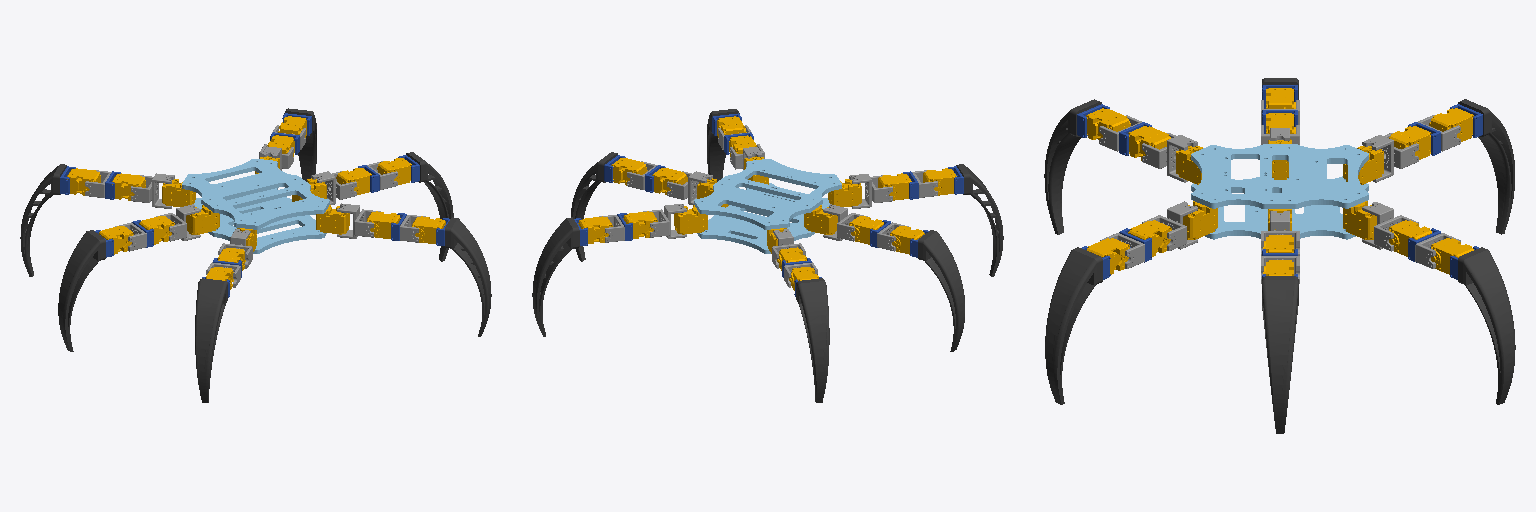
--- Facts derived from the render (not from the file) ---
3 views of the same robot in one strip: view 1: azimuth 30°, elevation 25°; view 2: azimuth 150°, elevation 25°; view 3: azimuth 270°, elevation 25° (orthographic).
Model urdf with 21 links and 20 joints (18 revolute, 2 fixed), rooted at base_link, posed all joints at 0.
Visible links, largest first — view 1: partb, base_assembly, tibia_assembly_5, tibia_assembly_6, tibia_assembly, tibia_assembly_4, tibia_assembly_2, tibia_assembly_3, femur_assembly_4, femur_assembly, femur_assembly_2, femur_assembly_5 (+6 smaller); view 2: partb, base_assembly, tibia_assembly_4, tibia_assembly_5, tibia_assembly_3, tibia_assembly_6, tibia_assembly_2, tibia_assembly, femur_assembly_3, femur_assembly_6, femur_assembly_5, femur_assembly_2 (+6 smaller); view 3: partb, base_assembly, tibia_assembly_3, tibia_assembly, tibia_assembly_2, tibia_assembly_6, tibia_assembly_4, femur_assembly_3, femur_assembly, femur_assembly_6, femur_assembly_4, double_bracket_assembly_4 (+7 smaller).
Link boxes in pixels (x1,y1,x2,y2): partb: (182, 159, 329, 229); base_assembly: (162, 156, 349, 253); tibia_assembly_5: (58, 226, 133, 351); tibia_assembly_6: (195, 267, 233, 402); tibia_assembly: (412, 216, 491, 336); tibia_assembly_4: (20, 164, 100, 276); tibia_assembly_2: (377, 152, 453, 261); tibia_assembly_3: (278, 108, 316, 181); femur_assembly_4: (85, 170, 145, 200); femur_assembly: (367, 211, 425, 242); femur_assembly_2: (336, 161, 397, 194); femur_assembly_5: (115, 216, 174, 251); partb: (694, 159, 841, 229); base_assembly: (674, 156, 861, 253); tibia_assembly_4: (789, 267, 829, 402); tibia_assembly_5: (890, 226, 964, 351); tibia_assembly_3: (532, 216, 612, 336); tibia_assembly_6: (923, 164, 1003, 276); tibia_assembly_2: (571, 152, 647, 261); tibia_assembly: (707, 109, 746, 181); femur_assembly_3: (599, 211, 657, 242); femur_assembly_6: (878, 170, 937, 200); femur_assembly_5: (849, 216, 908, 251); femur_assembly_2: (627, 161, 687, 194); partb: (1191, 144, 1368, 208); base_assembly: (1176, 140, 1383, 239); tibia_assembly_3: (1431, 238, 1515, 404); tibia_assembly: (1045, 238, 1129, 404); tibia_assembly_2: (1262, 260, 1298, 433); tibia_assembly_6: (1044, 99, 1130, 234); tibia_assembly_4: (1429, 99, 1514, 234); femur_assembly_3: (1389, 220, 1460, 268); femur_assembly: (1100, 220, 1171, 268); femur_assembly_6: (1099, 115, 1170, 160); femur_assembly_4: (1389, 115, 1460, 159); double_bracket_assembly_4: (1362, 133, 1418, 182).
Size in the robot's own frame: 0.6881 by 0.5678 by 0.1915 metres.
56 mesh visuals loaded from 6 distinct referenced files (6 binary STL).

URDF robot description (urdf):
<?xml version="1.0" ?>
<!-- Generated using onshape-to-robot -->
<!-- OnShape https://cad.onshape.com/documents/2311ffd79aa6c26e8c566e59/w/5ecc59089fcfd42a0c58ebf8/e/2f7cd58c498d1dbad1e98fbd -->
<robot name="urdf">
    <!-- Link base_link -->
    <link name="base_link">
        <inertial>
            <origin xyz="0 0 0" rpy="0 0 0"/>
            <mass value="0"/>
            <inertia ixx="0" ixy="0" ixz="0" iyy="0" iyz="0" izz="0"/>
        </inertial>
    </link>
    <!-- Link base_assembly -->
    <link name="base_assembly">
        <inertial>
            <origin xyz="0.000265282 0.00633191 0.0073901" rpy="0 0 0"/>
            <mass value="0.890914"/>
            <inertia ixx="0.00543286" ixy="1.502e-07" ixz="-2.03288e-20" iyy="0.00544627" iyz="1.21481e-05" izz="0.0106306"/>
        </inertial>
        <!-- Part parta -->
        <visual>
            <origin xyz="0.000265282 0.00538834 -0.010561" rpy="0 -0 0"/>
            <geometry>
                <mesh filename="package://assets/parta.stl"/>
            </geometry>
            <material name="parta_material">
                <color rgba="0.615686 0.811765 0.929412 1.0"/>
            </material>
        </visual>
        <collision>
            <origin xyz="0.000265282 0.00538834 -0.010561" rpy="0 -0 0"/>
            <geometry>
                <mesh filename="package://assets/parta.stl"/>
            </geometry>
        </collision>
        <!-- Part dc11_a01_dummy -->
        <visual>
            <origin xyz="0.0867913 0.114345 0.013439" rpy="3.14159 -0 2.355"/>
            <geometry>
                <mesh filename="package://assets/dc11_a01_dummy.stl"/>
            </geometry>
            <material name="dc11_a01_dummy_material">
                <color rgba="0.980392 0.713725 0.00392157 1.0"/>
            </material>
        </visual>
        <collision>
            <origin xyz="0.0867913 0.114345 0.013439" rpy="3.14159 -0 2.355"/>
            <geometry>
                <mesh filename="package://assets/dc11_a01_dummy.stl"/>
            </geometry>
        </collision>
        <!-- Part dc11_a01_dummy_2 -->
        <visual>
            <origin xyz="-0.0862607 0.114345 0.013439" rpy="3.14159 -0 -2.355"/>
            <geometry>
                <mesh filename="package://assets/dc11_a01_dummy.stl"/>
            </geometry>
            <material name="dc11_a01_dummy_2_material">
                <color rgba="0.980392 0.713725 0.00392157 1.0"/>
            </material>
        </visual>
        <collision>
            <origin xyz="-0.0862607 0.114345 0.013439" rpy="3.14159 -0 -2.355"/>
            <geometry>
                <mesh filename="package://assets/dc11_a01_dummy.stl"/>
            </geometry>
        </collision>
        <!-- Part dc11_a01_dummy_3 -->
        <visual>
            <origin xyz="-0.106519 0.00538834 0.013439" rpy="3.14159 -0 -1.5708"/>
            <geometry>
                <mesh filename="package://assets/dc11_a01_dummy.stl"/>
            </geometry>
            <material name="dc11_a01_dummy_3_material">
                <color rgba="0.980392 0.713725 0.00392157 1.0"/>
            </material>
        </visual>
        <collision>
            <origin xyz="-0.106519 0.00538834 0.013439" rpy="3.14159 -0 -1.5708"/>
            <geometry>
                <mesh filename="package://assets/dc11_a01_dummy.stl"/>
            </geometry>
        </collision>
        <!-- Part dc11_a01_dummy_4 -->
        <visual>
            <origin xyz="0.10705 0.00538834 0.013439" rpy="3.14159 -0 1.5708"/>
            <geometry>
                <mesh filename="package://assets/dc11_a01_dummy.stl"/>
            </geometry>
            <material name="dc11_a01_dummy_4_material">
                <color rgba="0.980392 0.713725 0.00392157 1.0"/>
            </material>
        </visual>
        <collision>
            <origin xyz="0.10705 0.00538834 0.013439" rpy="3.14159 -0 1.5708"/>
            <geometry>
                <mesh filename="package://assets/dc11_a01_dummy.stl"/>
            </geometry>
        </collision>
        <!-- Part dc11_a01_dummy_5 -->
        <visual>
            <origin xyz="-0.0862607 -0.103568 0.013439" rpy="3.14159 -0 -0.786593"/>
            <geometry>
                <mesh filename="package://assets/dc11_a01_dummy.stl"/>
            </geometry>
            <material name="dc11_a01_dummy_5_material">
                <color rgba="0.980392 0.713725 0.00392157 1.0"/>
            </material>
        </visual>
        <collision>
            <origin xyz="-0.0862607 -0.103568 0.013439" rpy="3.14159 -0 -0.786593"/>
            <geometry>
                <mesh filename="package://assets/dc11_a01_dummy.stl"/>
            </geometry>
        </collision>
        <!-- Part dc11_a01_dummy_6 -->
        <visual>
            <origin xyz="0.0867913 -0.103568 0.013439" rpy="3.14159 -0 0.786593"/>
            <geometry>
                <mesh filename="package://assets/dc11_a01_dummy.stl"/>
            </geometry>
            <material name="dc11_a01_dummy_6_material">
                <color rgba="0.980392 0.713725 0.00392157 1.0"/>
            </material>
        </visual>
        <collision>
            <origin xyz="0.0867913 -0.103568 0.013439" rpy="3.14159 -0 0.786593"/>
            <geometry>
                <mesh filename="package://assets/dc11_a01_dummy.stl"/>
            </geometry>
        </collision>
    </link>
    <!-- Link double_bracket_assembly -->
    <link name="double_bracket_assembly">
        <inertial>
            <origin xyz="0.028 1.20994e-08 0.019" rpy="0 0 0"/>
            <mass value="0.0246869"/>
            <inertia ixx="9.32829e-06" ixy="-5.03238e-12" ixz="-5.03238e-12" iyy="8.77841e-06" iyz="7.40111e-15" izz="8.77841e-06"/>
        </inertial>
        <!-- Part fr12_h101 -->
        <visual>
            <origin xyz="0.056 -1.21431e-17 0.019" rpy="0 -0 1.5708"/>
            <geometry>
                <mesh filename="package://assets/fr12_h101.stl"/>
            </geometry>
            <material name="fr12_h101_material">
                <color rgba="0.647059 0.647059 0.647059 1.0"/>
            </material>
        </visual>
        <collision>
            <origin xyz="0.056 -1.21431e-17 0.019" rpy="0 -0 1.5708"/>
            <geometry>
                <mesh filename="package://assets/fr12_h101.stl"/>
            </geometry>
        </collision>
        <!-- Part fr12_h101_2 -->
        <visual>
            <origin xyz="2.77556e-17 1.73472e-18 0.019" rpy="1.5708 1.5708 0"/>
            <geometry>
                <mesh filename="package://assets/fr12_h101.stl"/>
            </geometry>
            <material name="fr12_h101_2_material">
                <color rgba="0.647059 0.647059 0.647059 1.0"/>
            </material>
        </visual>
        <collision>
            <origin xyz="2.77556e-17 1.73472e-18 0.019" rpy="1.5708 1.5708 0"/>
            <geometry>
                <mesh filename="package://assets/fr12_h101.stl"/>
            </geometry>
        </collision>
    </link>
    <!-- Link femur_assembly -->
    <link name="femur_assembly">
        <inertial>
            <origin xyz="-7.54726e-06 -0.0176085 -0.0180586" rpy="0 0 0"/>
            <mass value="0.13198"/>
            <inertia ixx="5.98948e-05" ixy="1.75405e-08" ixz="1.43469e-08" iyy="2.44197e-05" iyz="-1.39313e-06" izz="5.20149e-05"/>
        </inertial>
        <!-- Part dc11_a01_dummy_7 -->
        <visual>
            <origin xyz="-1.73472e-18 0 -0.019" rpy="-5.55112e-17 4.93038e-32 3.9443e-31"/>
            <geometry>
                <mesh filename="package://assets/dc11_a01_dummy.stl"/>
            </geometry>
            <material name="dc11_a01_dummy_7_material">
                <color rgba="0.980392 0.713725 0.00392157 1.0"/>
            </material>
        </visual>
        <collision>
            <origin xyz="-1.73472e-18 0 -0.019" rpy="-5.55112e-17 4.93038e-32 3.9443e-31"/>
            <geometry>
                <mesh filename="package://assets/dc11_a01_dummy.stl"/>
            </geometry>
        </collision>
        <!-- Part fr12_s102 -->
        <visual>
            <origin xyz="1.38778e-17 -0.021 -0.019" rpy="1.5708 1.5708 0"/>
            <geometry>
                <mesh filename="package://assets/fr12_s102.stl"/>
            </geometry>
            <material name="fr12_s102_material">
                <color rgba="0.231373 0.380392 0.705882 1.0"/>
            </material>
        </visual>
        <collision>
            <origin xyz="1.38778e-17 -0.021 -0.019" rpy="1.5708 1.5708 0"/>
            <geometry>
                <mesh filename="package://assets/fr12_s102.stl"/>
            </geometry>
        </collision>
        <!-- Part fr12_h101_3 -->
        <visual>
            <origin xyz="-1.21431e-16 -0.0715 -0.019" rpy="-6.56411e-19 -1.5708 0"/>
            <geometry>
                <mesh filename="package://assets/fr12_h101.stl"/>
            </geometry>
            <material name="fr12_h101_3_material">
                <color rgba="0.647059 0.647059 0.647059 1.0"/>
            </material>
        </visual>
        <collision>
            <origin xyz="-1.21431e-16 -0.0715 -0.019" rpy="-6.56411e-19 -1.5708 0"/>
            <geometry>
                <mesh filename="package://assets/fr12_h101.stl"/>
            </geometry>
        </collision>
    </link>
    <!-- Link tibia_assembly -->
    <link name="tibia_assembly">
        <inertial>
            <origin xyz="-0.0167995 -0.0405638 -0.0184092" rpy="0 0 0"/>
            <mass value="0.209114"/>
            <inertia ixx="0.000285113" ixy="-0.000196192" ixz="-2.14462e-06" iyy="0.000286962" iyz="-4.27064e-06" izz="0.000528405"/>
        </inertial>
        <!-- Part part_1 -->
        <visual>
            <origin xyz="0.00565724 0.128232 -0.00920154" rpy="-1.66533e-15 -0 2.77336e-17"/>
            <geometry>
                <mesh filename="package://assets/part_1.stl"/>
            </geometry>
            <material name="part_1_material">
                <color rgba="0.301961 0.301961 0.301961 1.0"/>
            </material>
        </visual>
        <collision>
            <origin xyz="0.00565724 0.128232 -0.00920154" rpy="-1.66533e-15 -0 2.77336e-17"/>
            <geometry>
                <mesh filename="package://assets/part_1.stl"/>
            </geometry>
        </collision>
        <!-- Part dc11_a01_dummy_8 -->
        <visual>
            <origin xyz="0 0 -0.019" rpy="-1.60488e-31 9.86076e-32 0"/>
            <geometry>
                <mesh filename="package://assets/dc11_a01_dummy.stl"/>
            </geometry>
            <material name="dc11_a01_dummy_8_material">
                <color rgba="0.980392 0.713725 0.00392157 1.0"/>
            </material>
        </visual>
        <collision>
            <origin xyz="0 0 -0.019" rpy="-1.60488e-31 9.86076e-32 0"/>
            <geometry>
                <mesh filename="package://assets/dc11_a01_dummy.stl"/>
            </geometry>
        </collision>
        <!-- Part fr12_s102_2 -->
        <visual>
            <origin xyz="9.88792e-17 -0.021 -0.019" rpy="1.5708 1.5708 0"/>
            <geometry>
                <mesh filename="package://assets/fr12_s102.stl"/>
            </geometry>
            <material name="fr12_s102_2_material">
                <color rgba="0.231373 0.380392 0.705882 1.0"/>
            </material>
        </visual>
        <collision>
            <origin xyz="9.88792e-17 -0.021 -0.019" rpy="1.5708 1.5708 0"/>
            <geometry>
                <mesh filename="package://assets/fr12_s102.stl"/>
            </geometry>
        </collision>
    </link>
    <!-- Joint from femur_assembly to tibia_assembly -->
    <joint name="leg1_tibia" type="revolute">
        <origin xyz="-1.26635e-16 -0.0715 1.07553e-16" rpy="7.21645e-16 -3.83614e-17 3.60514e-17"/>
        <parent link="femur_assembly"/>
        <child link="tibia_assembly"/>
        <axis xyz="0 0 1"/>
        <limit effort="10" velocity="10" lower="-1.5708" upper="1.5708"/>
    </joint>
    <!-- Joint from double_bracket_assembly to femur_assembly -->
    <joint name="leg1_femur" type="revolute">
        <origin xyz="0.056 -0.019 0.019" rpy="1.5708 -1.5708 0"/>
        <parent link="double_bracket_assembly"/>
        <child link="femur_assembly"/>
        <axis xyz="0 0 1"/>
        <limit effort="10" velocity="10" lower="-1.5708" upper="1.5708"/>
    </joint>
    <!-- Joint from base_assembly to double_bracket_assembly -->
    <joint name="leg1_coxa" type="revolute">
        <origin xyz="0.0867913 -0.103568 -0.00556095" rpy="0 -0 -0.784204"/>
        <parent link="base_assembly"/>
        <child link="double_bracket_assembly"/>
        <axis xyz="0 0 1"/>
        <limit effort="10" velocity="10" lower="-1.0472" upper="1.0472"/>
    </joint>
    <!-- Link double_bracket_assembly_2 -->
    <link name="double_bracket_assembly_2">
        <inertial>
            <origin xyz="0.028 1.20994e-08 0.019" rpy="0 0 0"/>
            <mass value="0.0246869"/>
            <inertia ixx="9.32829e-06" ixy="-5.03238e-12" ixz="-5.03238e-12" iyy="8.77841e-06" iyz="7.40111e-15" izz="8.77841e-06"/>
        </inertial>
        <!-- Part fr12_h101_4 -->
        <visual>
            <origin xyz="0.056 4.16334e-17 0.019" rpy="0 -0 1.5708"/>
            <geometry>
                <mesh filename="package://assets/fr12_h101.stl"/>
            </geometry>
            <material name="fr12_h101_4_material">
                <color rgba="0.647059 0.647059 0.647059 1.0"/>
            </material>
        </visual>
        <collision>
            <origin xyz="0.056 4.16334e-17 0.019" rpy="0 -0 1.5708"/>
            <geometry>
                <mesh filename="package://assets/fr12_h101.stl"/>
            </geometry>
        </collision>
        <!-- Part fr12_h101_5 -->
        <visual>
            <origin xyz="0 0 0.019" rpy="1.5708 1.5708 0"/>
            <geometry>
                <mesh filename="package://assets/fr12_h101.stl"/>
            </geometry>
            <material name="fr12_h101_5_material">
                <color rgba="0.647059 0.647059 0.647059 1.0"/>
            </material>
        </visual>
        <collision>
            <origin xyz="0 0 0.019" rpy="1.5708 1.5708 0"/>
            <geometry>
                <mesh filename="package://assets/fr12_h101.stl"/>
            </geometry>
        </collision>
    </link>
    <!-- Link femur_assembly_2 -->
    <link name="femur_assembly_2">
        <inertial>
            <origin xyz="-7.54726e-06 -0.0176085 -0.0180586" rpy="0 0 0"/>
            <mass value="0.13198"/>
            <inertia ixx="5.98948e-05" ixy="1.75405e-08" ixz="1.43469e-08" iyy="2.44197e-05" iyz="-1.39313e-06" izz="5.20149e-05"/>
        </inertial>
        <!-- Part dc11_a01_dummy_9 -->
        <visual>
            <origin xyz="0 0 -0.019" rpy="0 -0 0"/>
            <geometry>
                <mesh filename="package://assets/dc11_a01_dummy.stl"/>
            </geometry>
            <material name="dc11_a01_dummy_9_material">
                <color rgba="0.980392 0.713725 0.00392157 1.0"/>
            </material>
        </visual>
        <collision>
            <origin xyz="0 0 -0.019" rpy="0 -0 0"/>
            <geometry>
                <mesh filename="package://assets/dc11_a01_dummy.stl"/>
            </geometry>
        </collision>
        <!-- Part fr12_s102_3 -->
        <visual>
            <origin xyz="-2.77556e-17 -0.021 -0.019" rpy="1.5708 1.5708 0"/>
            <geometry>
                <mesh filename="package://assets/fr12_s102.stl"/>
            </geometry>
            <material name="fr12_s102_3_material">
                <color rgba="0.231373 0.380392 0.705882 1.0"/>
            </material>
        </visual>
        <collision>
            <origin xyz="-2.77556e-17 -0.021 -0.019" rpy="1.5708 1.5708 0"/>
            <geometry>
                <mesh filename="package://assets/fr12_s102.stl"/>
            </geometry>
        </collision>
        <!-- Part fr12_h101_6 -->
        <visual>
            <origin xyz="-2.77556e-17 -0.0715 -0.019" rpy="-0 -1.5708 0"/>
            <geometry>
                <mesh filename="package://assets/fr12_h101.stl"/>
            </geometry>
            <material name="fr12_h101_6_material">
                <color rgba="0.647059 0.647059 0.647059 1.0"/>
            </material>
        </visual>
        <collision>
            <origin xyz="-2.77556e-17 -0.0715 -0.019" rpy="-0 -1.5708 0"/>
            <geometry>
                <mesh filename="package://assets/fr12_h101.stl"/>
            </geometry>
        </collision>
    </link>
    <!-- Link tibia_assembly_2 -->
    <link name="tibia_assembly_2">
        <inertial>
            <origin xyz="-0.0167995 -0.0405638 -0.0184092" rpy="0 0 0"/>
            <mass value="0.209114"/>
            <inertia ixx="0.000285113" ixy="-0.000196192" ixz="-2.14462e-06" iyy="0.000286962" iyz="-4.27064e-06" izz="0.000528405"/>
        </inertial>
        <!-- Part part_1_2 -->
        <visual>
            <origin xyz="0.00565724 0.128232 -0.00920154" rpy="-1.91334e-17 -0 2.77336e-17"/>
            <geometry>
                <mesh filename="package://assets/part_1.stl"/>
            </geometry>
            <material name="part_1_2_material">
                <color rgba="0.301961 0.301961 0.301961 1.0"/>
            </material>
        </visual>
        <collision>
            <origin xyz="0.00565724 0.128232 -0.00920154" rpy="-1.91334e-17 -0 2.77336e-17"/>
            <geometry>
                <mesh filename="package://assets/part_1.stl"/>
            </geometry>
        </collision>
        <!-- Part dc11_a01_dummy_10 -->
        <visual>
            <origin xyz="0 0 -0.019" rpy="0 -0 0"/>
            <geometry>
                <mesh filename="package://assets/dc11_a01_dummy.stl"/>
            </geometry>
            <material name="dc11_a01_dummy_10_material">
                <color rgba="0.980392 0.713725 0.00392157 1.0"/>
            </material>
        </visual>
        <collision>
            <origin xyz="0 0 -0.019" rpy="0 -0 0"/>
            <geometry>
                <mesh filename="package://assets/dc11_a01_dummy.stl"/>
            </geometry>
        </collision>
        <!-- Part fr12_s102_4 -->
        <visual>
            <origin xyz="0 -0.021 -0.019" rpy="1.5708 1.5708 0"/>
            <geometry>
                <mesh filename="package://assets/fr12_s102.stl"/>
            </geometry>
            <material name="fr12_s102_4_material">
                <color rgba="0.231373 0.380392 0.705882 1.0"/>
            </material>
        </visual>
        <collision>
            <origin xyz="0 -0.021 -0.019" rpy="1.5708 1.5708 0"/>
            <geometry>
                <mesh filename="package://assets/fr12_s102.stl"/>
            </geometry>
        </collision>
    </link>
    <!-- Joint from femur_assembly_2 to tibia_assembly_2 -->
    <joint name="leg2_tibia" type="revolute">
        <origin xyz="-2.77556e-17 -0.0715 -1.38778e-17" rpy="0 -0 0"/>
        <parent link="femur_assembly_2"/>
        <child link="tibia_assembly_2"/>
        <axis xyz="0 0 1"/>
        <limit effort="10" velocity="10" lower="-1.5708" upper="1.5708"/>
    </joint>
    <!-- Joint from double_bracket_assembly_2 to femur_assembly_2 -->
    <joint name="leg2_femur" type="revolute">
        <origin xyz="0.056 -0.019 0.019" rpy="1.5708 -1.5708 0"/>
        <parent link="double_bracket_assembly_2"/>
        <child link="femur_assembly_2"/>
        <axis xyz="0 0 1"/>
        <limit effort="10" velocity="10" lower="-1.5708" upper="1.5708"/>
    </joint>
    <!-- Joint from base_assembly to double_bracket_assembly_2 -->
    <joint name="leg2_coxa" type="revolute">
        <origin xyz="0.10705 0.00538834 -0.00556095" rpy="0 -0 0"/>
        <parent link="base_assembly"/>
        <child link="double_bracket_assembly_2"/>
        <axis xyz="0 0 1"/>
        <limit effort="10" velocity="10" lower="-1.0472" upper="1.0472"/>
    </joint>
    <!-- Link double_bracket_assembly_3 -->
    <link name="double_bracket_assembly_3">
        <inertial>
            <origin xyz="0.028 1.20994e-08 0.019" rpy="0 0 0"/>
            <mass value="0.0246869"/>
            <inertia ixx="9.32829e-06" ixy="-5.03238e-12" ixz="-5.03238e-12" iyy="8.77841e-06" iyz="7.40111e-15" izz="8.77841e-06"/>
        </inertial>
        <!-- Part fr12_h101_7 -->
        <visual>
            <origin xyz="0.056 -2.08167e-17 0.019" rpy="0 -0 1.5708"/>
            <geometry>
                <mesh filename="package://assets/fr12_h101.stl"/>
            </geometry>
            <material name="fr12_h101_7_material">
                <color rgba="0.647059 0.647059 0.647059 1.0"/>
            </material>
        </visual>
        <collision>
            <origin xyz="0.056 -2.08167e-17 0.019" rpy="0 -0 1.5708"/>
            <geometry>
                <mesh filename="package://assets/fr12_h101.stl"/>
            </geometry>
        </collision>
        <!-- Part fr12_h101_8 -->
        <visual>
            <origin xyz="0 -6.93889e-18 0.019" rpy="1.5708 1.5708 0"/>
            <geometry>
                <mesh filename="package://assets/fr12_h101.stl"/>
            </geometry>
            <material name="fr12_h101_8_material">
                <color rgba="0.647059 0.647059 0.647059 1.0"/>
            </material>
        </visual>
        <collision>
            <origin xyz="0 -6.93889e-18 0.019" rpy="1.5708 1.5708 0"/>
            <geometry>
                <mesh filename="package://assets/fr12_h101.stl"/>
            </geometry>
        </collision>
    </link>
    <!-- Link femur_assembly_3 -->
    <link name="femur_assembly_3">
        <inertial>
            <origin xyz="-7.54726e-06 -0.0176085 -0.0180586" rpy="0 0 0"/>
            <mass value="0.13198"/>
            <inertia ixx="5.98948e-05" ixy="1.75405e-08" ixz="1.43469e-08" iyy="2.44197e-05" iyz="-1.39313e-06" izz="5.20149e-05"/>
        </inertial>
        <!-- Part dc11_a01_dummy_11 -->
        <visual>
            <origin xyz="0 0 -0.019" rpy="5.55112e-17 -0 0"/>
            <geometry>
                <mesh filename="package://assets/dc11_a01_dummy.stl"/>
            </geometry>
            <material name="dc11_a01_dummy_11_material">
                <color rgba="0.980392 0.713725 0.00392157 1.0"/>
            </material>
        </visual>
        <collision>
            <origin xyz="0 0 -0.019" rpy="5.55112e-17 -0 0"/>
            <geometry>
                <mesh filename="package://assets/dc11_a01_dummy.stl"/>
            </geometry>
        </collision>
        <!-- Part fr12_s102_5 -->
        <visual>
            <origin xyz="-8.32667e-17 -0.021 -0.019" rpy="1.5708 1.5708 0"/>
            <geometry>
                <mesh filename="package://assets/fr12_s102.stl"/>
            </geometry>
            <material name="fr12_s102_5_material">
                <color rgba="0.231373 0.380392 0.705882 1.0"/>
            </material>
        </visual>
        <collision>
            <origin xyz="-8.32667e-17 -0.021 -0.019" rpy="1.5708 1.5708 0"/>
            <geometry>
                <mesh filename="package://assets/fr12_s102.stl"/>
            </geometry>
        </collision>
        <!-- Part fr12_h101_9 -->
        <visual>
            <origin xyz="-8.32667e-17 -0.0715 -0.019" rpy="3.92054e-17 -1.5708 0"/>
            <geometry>
                <mesh filename="package://assets/fr12_h101.stl"/>
            </geometry>
            <material name="fr12_h101_9_material">
                <color rgba="0.647059 0.647059 0.647059 1.0"/>
            </material>
        </visual>
        <collision>
            <origin xyz="-8.32667e-17 -0.0715 -0.019" rpy="3.92054e-17 -1.5708 0"/>
            <geometry>
                <mesh filename="package://assets/fr12_h101.stl"/>
            </geometry>
        </collision>
    </link>
    <!-- Link tibia_assembly_3 -->
    <link name="tibia_assembly_3">
        <inertial>
            <origin xyz="-0.0167995 -0.0405638 -0.0184092" rpy="0 0 0"/>
            <mass value="0.209114"/>
            <inertia ixx="0.000285113" ixy="-0.000196192" ixz="-2.14462e-06" iyy="0.000286962" iyz="-4.27064e-06" izz="0.000528405"/>
        </inertial>
        <!-- Part part_1_3 -->
        <visual>
            <origin xyz="0.00565724 0.128232 -0.00920154" rpy="-8.32667e-16 2.46519e-32 2.77336e-17"/>
            <geometry>
                <mesh filename="package://assets/part_1.stl"/>
            </geometry>
            <material name="part_1_3_material">
                <color rgba="0.301961 0.301961 0.301961 1.0"/>
            </material>
        </visual>
        <collision>
            <origin xyz="0.00565724 0.128232 -0.00920154" rpy="-8.32667e-16 2.46519e-32 2.77336e-17"/>
            <geometry>
                <mesh filename="package://assets/part_1.stl"/>
            </geometry>
        </collision>
        <!-- Part dc11_a01_dummy_12 -->
        <visual>
            <origin xyz="0 5.55112e-17 -0.019" rpy="-1.11022e-16 2.46519e-32 -4.93038e-32"/>
            <geometry>
                <mesh filename="package://assets/dc11_a01_dummy.stl"/>
            </geometry>
            <material name="dc11_a01_dummy_12_material">
                <color rgba="0.980392 0.713725 0.00392157 1.0"/>
            </material>
        </visual>
        <collision>
            <origin xyz="0 5.55112e-17 -0.019" rpy="-1.11022e-16 2.46519e-32 -4.93038e-32"/>
            <geometry>
                <mesh filename="package://assets/dc11_a01_dummy.stl"/>
            </geometry>
        </collision>
        <!-- Part fr12_s102_6 -->
        <visual>
            <origin xyz="3.46945e-18 -0.021 -0.019" rpy="1.5708 1.5708 0"/>
            <geometry>
                <mesh filename="package://assets/fr12_s102.stl"/>
            </geometry>
            <material name="fr12_s102_6_material">
                <color rgba="0.231373 0.380392 0.705882 1.0"/>
            </material>
        </visual>
        <collision>
            <origin xyz="3.46945e-18 -0.021 -0.019" rpy="1.5708 1.5708 0"/>
            <geometry>
                <mesh filename="package://assets/fr12_s102.stl"/>
            </geometry>
        </collision>
    </link>
    <!-- Joint from femur_assembly_3 to tibia_assembly_3 -->
    <joint name="leg3_tibia" type="revolute">
        <origin xyz="-2.60209e-17 -0.0715 9.32414e-17" rpy="3.88578e-16 -1.96402e-16 2.35232e-16"/>
        <parent link="femur_assembly_3"/>
        <child link="tibia_assembly_3"/>
        <axis xyz="0 0 1"/>
        <limit effort="10" velocity="10" lower="-1.5708" upper="1.5708"/>
    </joint>
    <!-- Joint from double_bracket_assembly_3 to femur_assembly_3 -->
    <joint name="leg3_femur" type="revolute">
        <origin xyz="0.056 -0.019 0.019" rpy="1.5708 -1.5708 0"/>
        <parent link="double_bracket_assembly_3"/>
        <child link="femur_assembly_3"/>
        <axis xyz="0 0 1"/>
        <limit effort="10" velocity="10" lower="-1.5708" upper="1.5708"/>
    </joint>
    <!-- Joint from base_assembly to double_bracket_assembly_3 -->
    <joint name="leg3_coxa" type="revolute">
        <origin xyz="0.0867913 0.114345 -0.00556095" rpy="0 -0 0.784204"/>
        <parent link="base_assembly"/>
        <child link="double_bracket_assembly_3"/>
        <axis xyz="0 0 1"/>
        <limit effort="10" velocity="10" lower="-1.0472" upper="1.0472"/>
    </joint>
    <!-- Link double_bracket_assembly_4 -->
    <link name="double_bracket_assembly_4">
        <inertial>
            <origin xyz="0.028 1.20994e-08 0.019" rpy="0 0 0"/>
            <mass value="0.0246869"/>
            <inertia ixx="9.32829e-06" ixy="-5.03238e-12" ixz="-5.03238e-12" iyy="8.77841e-06" iyz="7.40111e-15" izz="8.77841e-06"/>
        </inertial>
        <!-- Part fr12_h101_10 -->
        <visual>
            <origin xyz="0.056 -5.89806e-17 0.019" rpy="0 -0 1.5708"/>
            <geometry>
                <mesh filename="package://assets/fr12_h101.stl"/>
            </geometry>
            <material name="fr12_h101_10_material">
                <color rgba="0.647059 0.647059 0.647059 1.0"/>
            </material>
        </visual>
        <collision>
            <origin xyz="0.056 -5.89806e-17 0.019" rpy="0 -0 1.5708"/>
            <geometry>
                <mesh filename="package://assets/fr12_h101.stl"/>
            </geometry>
        </collision>
        <!-- Part fr12_h101_11 -->
        <visual>
            <origin xyz="-2.77556e-17 1.04083e-17 0.019" rpy="1.5708 1.5708 0"/>
            <geometry>
                <mesh filename="package://assets/fr12_h101.stl"/>
            </geometry>
            <material name="fr12_h101_11_material">
                <color rgba="0.647059 0.647059 0.647059 1.0"/>
            </material>
        </visual>
        <collision>
            <origin xyz="-2.77556e-17 1.04083e-17 0.019" rpy="1.5708 1.5708 0"/>
            <geometry>
                <mesh filename="package://assets/fr12_h101.stl"/>
            </geometry>
        </collision>
    </link>
    <!-- Link femur_assembly_4 -->
    <link name="femur_assembly_4">
        <inertial>
            <origin xyz="-7.54726e-06 -0.0176085 -0.0180586" rpy="0 0 0"/>
            <mass value="0.13198"/>
            <inertia ixx="5.98948e-05" ixy="1.75405e-08" ixz="1.43469e-08" iyy="2.44197e-05" iyz="-1.39313e-06" izz="5.20149e-05"/>
        </inertial>
        <!-- Part dc11_a01_dummy_13 -->
        <visual>
            <origin xyz="0 0 -0.019" rpy="7.36161e-36 4.0926e-34 -1.2326e-32"/>
            <geometry>
                <mesh filename="package://assets/dc11_a01_dummy.stl"/>
            </geometry>
            <material name="dc11_a01_dummy_13_material">
                <color rgba="0.980392 0.713725 0.00392157 1.0"/>
            </material>
        </visual>
        <collision>
            <origin xyz="0 0 -0.019" rpy="7.36161e-36 4.0926e-34 -1.2326e-32"/>
            <geometry>
                <mesh filename="package://assets/dc11_a01_dummy.stl"/>
            </geometry>
        </collision>
        <!-- Part fr12_s102_7 -->
        <visual>
            <origin xyz="2.60209e-17 -0.021 -0.019" rpy="1.5708 1.5708 0"/>
            <geometry>
                <mesh filename="package://assets/fr12_s102.stl"/>
            </geometry>
            <material name="fr12_s102_7_material">
                <color rgba="0.231373 0.380392 0.705882 1.0"/>
            </material>
        </visual>
        <collision>
            <origin xyz="2.60209e-17 -0.021 -0.019" rpy="1.5708 1.5708 0"/>
            <geometry>
                <mesh filename="package://assets/fr12_s102.stl"/>
            </geometry>
        </collision>
        <!-- Part fr12_h101_12 -->
        <visual>
            <origin xyz="8.67362e-18 -0.0715 -0.019" rpy="-7.82232e-17 -1.5708 0"/>
            <geometry>
                <mesh filename="package://assets/fr12_h101.stl"/>
            </geometry>
            <material name="fr12_h101_12_material">
                <color rgba="0.647059 0.647059 0.647059 1.0"/>
            </material>
        </visual>
        <collision>
            <origin xyz="8.67362e-18 -0.0715 -0.019" rpy="-7.82232e-17 -1.5708 0"/>
            <geometry>
                <mesh filename="package://assets/fr12_h101.stl"/>
            </geometry>
        </collision>
    </link>
    <!-- Link tibia_assembly_4 -->
    <link name="tibia_assembly_4">
        <inertial>
            <origin xyz="-0.0167995 -0.0405638 -0.0184092" rpy="0 0 0"/>
            <mass value="0.209114"/>
            <inertia ixx="0.000285113" ixy="-0.000196192" ixz="-2.14462e-06" iyy="0.000286962" iyz="-4.27064e-06" izz="0.000528405"/>
        </inertial>
        <!-- Part part_1_4 -->
        <visual>
            <origin xyz="0.00565724 0.128232 -0.00920154" rpy="-4.44089e-16 -0 2.77336e-17"/>
            <geometry>
                <mesh filename="package://assets/part_1.stl"/>
            </geometry>
            <material name="part_1_4_material">
                <color rgba="0.301961 0.301961 0.301961 1.0"/>
            </material>
        </visual>
        <collision>
            <origin xyz="0.00565724 0.128232 -0.00920154" rpy="-4.44089e-16 -0 2.77336e-17"/>
            <geometry>
                <mesh filename="package://assets/part_1.stl"/>
            </geometry>
        </collision>
        <!-- Part dc11_a01_dummy_14 -->
        <visual>
            <origin xyz="1.73472e-18 0 -0.019" rpy="6.26079e-32 4.93038e-32 0"/>
            <geometry>
                <mesh filename="package://assets/dc11_a01_dummy.stl"/>
            </geometry>
            <material name="dc11_a01_dummy_14_material">
                <color rgba="0.980392 0.713725 0.00392157 1.0"/>
            </material>
        </visual>
        <collision>
            <origin xyz="1.73472e-18 0 -0.019" rpy="6.26079e-32 4.93038e-32 0"/>
            <geometry>
                <mesh filename="package://assets/dc11_a01_dummy.stl"/>
            </geometry>
        </collision>
        <!-- Part fr12_s102_8 -->
        <visual>
            <origin xyz="2.60209e-17 -0.021 -0.019" rpy="1.5708 1.5708 0"/>
            <geometry>
                <mesh filename="package://assets/fr12_s102.stl"/>
            </geometry>
            <material name="fr12_s102_8_material">
                <color rgba="0.231373 0.380392 0.705882 1.0"/>
            </material>
        </visual>
        <collision>
            <origin xyz="2.60209e-17 -0.021 -0.019" rpy="1.5708 1.5708 0"/>
            <geometry>
                <mesh filename="package://assets/fr12_s102.stl"/>
            </geometry>
        </collision>
    </link>
    <!-- Joint from femur_assembly_4 to tibia_assembly_4 -->
    <joint name="leg4_tibia" type="revolute">
        <origin xyz="1.73472e-18 -0.0715 -2.08167e-17" rpy="1.66533e-16 3.55515e-16 -6.86052e-17"/>
        <parent link="femur_assembly_4"/>
        <child link="tibia_assembly_4"/>
        <axis xyz="0 0 1"/>
        <limit effort="10" velocity="10" lower="-1.5708" upper="1.5708"/>
    </joint>
    <!-- Joint from double_bracket_assembly_4 to femur_assembly_4 -->
    <joint name="leg4_femur" type="revolute">
        <origin xyz="0.056 -0.019 0.019" rpy="1.5708 -1.5708 0"/>
        <parent link="double_bracket_assembly_4"/>
        <child link="femur_assembly_4"/>
        <axis xyz="0 0 1"/>
        <limit effort="10" velocity="10" lower="-1.5708" upper="1.5708"/>
    </joint>
    <!-- Joint from base_assembly to double_bracket_assembly_4 -->
    <joint name="leg4_coxa" type="revolute">
        <origin xyz="-0.0862607 0.114345 -0.00556095" rpy="0 -0 2.35739"/>
        <parent link="base_assembly"/>
        <child link="double_bracket_assembly_4"/>
        <axis xyz="0 0 1"/>
        <limit effort="10" velocity="10" lower="-1.0472" upper="1.0472"/>
    </joint>
    <!-- Link double_bracket_assembly_5 -->
    <link name="double_bracket_assembly_5">
        <inertial>
            <origin xyz="0.028 1.20994e-08 0.019" rpy="0 0 0"/>
            <mass value="0.0246869"/>
            <inertia ixx="9.32829e-06" ixy="-5.03238e-12" ixz="-5.03238e-12" iyy="8.77841e-06" iyz="7.40111e-15" izz="8.77841e-06"/>
        </inertial>
        <!-- Part fr12_h101_13 -->
        <visual>
            <origin xyz="0.056 0 0.019" rpy="0 -0 1.5708"/>
            <geometry>
                <mesh filename="package://assets/fr12_h101.stl"/>
            </geometry>
            <material name="fr12_h101_13_material">
                <color rgba="0.647059 0.647059 0.647059 1.0"/>
            </material>
        </visual>
        <collision>
            <origin xyz="0.056 0 0.019" rpy="0 -0 1.5708"/>
            <geometry>
                <mesh filename="package://assets/fr12_h101.stl"/>
            </geometry>
        </collision>
        <!-- Part fr12_h101_14 -->
        <visual>
            <origin xyz="0 0 0.019" rpy="1.5708 1.5708 0"/>
            <geometry>
                <mesh filename="package://assets/fr12_h101.stl"/>
            </geometry>
            <material name="fr12_h101_14_material">
                <color rgba="0.647059 0.647059 0.647059 1.0"/>
            </material>
        </visual>
        <collision>
            <origin xyz="0 0 0.019" rpy="1.5708 1.5708 0"/>
            <geometry>
                <mesh filename="package://assets/fr12_h101.stl"/>
            </geometry>
        </collision>
    </link>
    <!-- Link femur_assembly_5 -->
    <link name="femur_assembly_5">
        <inertial>
            <origin xyz="-7.54726e-06 -0.0176085 -0.0180586" rpy="0 0 0"/>
            <mass value="0.13198"/>
            <inertia ixx="5.98948e-05" ixy="1.75405e-08" ixz="1.43469e-08" iyy="2.44197e-05" iyz="-1.39313e-06" izz="5.20149e-05"/>
        </inertial>
        <!-- Part dc11_a01_dummy_15 -->
        <visual>
            <origin xyz="0 0 -0.019" rpy="0 -0 0"/>
            <geometry>
                <mesh filename="package://assets/dc11_a01_dummy.stl"/>
            </geometry>
            <material name="dc11_a01_dummy_15_material">
                <color rgba="0.980392 0.713725 0.00392157 1.0"/>
            </material>
        </visual>
        <collision>
            <origin xyz="0 0 -0.019" rpy="0 -0 0"/>
            <geometry>
                <mesh filename="package://assets/dc11_a01_dummy.stl"/>
            </geometry>
        </collision>
        <!-- Part fr12_s102_9 -->
        <visual>
            <origin xyz="1.38778e-17 -0.021 -0.019" rpy="1.5708 1.5708 0"/>
            <geometry>
                <mesh filename="package://assets/fr12_s102.stl"/>
            </geometry>
            <material name="fr12_s102_9_material">
                <color rgba="0.231373 0.380392 0.705882 1.0"/>
            </material>
        </visual>
        <collision>
            <origin xyz="1.38778e-17 -0.021 -0.019" rpy="1.5708 1.5708 0"/>
            <geometry>
                <mesh filename="package://assets/fr12_s102.stl"/>
            </geometry>
        </collision>
        <!-- Part fr12_h101_15 -->
        <visual>
            <origin xyz="4.16334e-17 -0.0715 -0.019" rpy="-0 -1.5708 0"/>
            <geometry>
                <mesh filename="package://assets/fr12_h101.stl"/>
            </geometry>
            <material name="fr12_h101_15_material">
                <color rgba="0.647059 0.647059 0.647059 1.0"/>
            </material>
        </visual>
        <collision>
            <origin xyz="4.16334e-17 -0.0715 -0.019" rpy="-0 -1.5708 0"/>
            <geometry>
                <mesh filename="package://assets/fr12_h101.stl"/>
            </geometry>
        </collision>
    </link>
    <!-- Link tibia_assembly_5 -->
    <link name="tibia_assembly_5">
        <inertial>
            <origin xyz="-0.0167995 -0.0405638 -0.0184092" rpy="0 0 0"/>
            <mass value="0.209114"/>
            <inertia ixx="0.000285113" ixy="-0.000196192" ixz="-2.14462e-06" iyy="0.000286962" iyz="-4.27064e-06" izz="0.000528405"/>
        </inertial>
        <!-- Part part_1_5 -->
        <visual>
            <origin xyz="0.00565724 0.128232 -0.00920154" rpy="-1.91334e-17 -0 2.77336e-17"/>
            <geometry>
                <mesh filename="package://assets/part_1.stl"/>
            </geometry>
            <material name="part_1_5_material">
                <color rgba="0.301961 0.301961 0.301961 1.0"/>
            </material>
        </visual>
        <collision>
            <origin xyz="0.00565724 0.128232 -0.00920154" rpy="-1.91334e-17 -0 2.77336e-17"/>
            <geometry>
                <mesh filename="package://assets/part_1.stl"/>
            </geometry>
        </collision>
        <!-- Part dc11_a01_dummy_16 -->
        <visual>
            <origin xyz="0 0 -0.019" rpy="0 -0 0"/>
            <geometry>
                <mesh filename="package://assets/dc11_a01_dummy.stl"/>
            </geometry>
            <material name="dc11_a01_dummy_16_material">
                <color rgba="0.980392 0.713725 0.00392157 1.0"/>
            </material>
        </visual>
        <collision>
            <origin xyz="0 0 -0.019" rpy="0 -0 0"/>
            <geometry>
                <mesh filename="package://assets/dc11_a01_dummy.stl"/>
            </geometry>
        </collision>
        <!-- Part fr12_s102_10 -->
        <visual>
            <origin xyz="0 -0.021 -0.019" rpy="1.5708 1.5708 0"/>
            <geometry>
                <mesh filename="package://assets/fr12_s102.stl"/>
            </geometry>
            <material name="fr12_s102_10_material">
                <color rgba="0.231373 0.380392 0.705882 1.0"/>
            </material>
        </visual>
        <collision>
            <origin xyz="0 -0.021 -0.019" rpy="1.5708 1.5708 0"/>
            <geometry>
                <mesh filename="package://assets/fr12_s102.stl"/>
            </geometry>
        </collision>
    </link>
    <!-- Joint from femur_assembly_5 to tibia_assembly_5 -->
    <joint name="leg5_tibia" type="revolute">
        <origin xyz="2.77556e-17 -0.0715 -2.77556e-17" rpy="0 -0 0"/>
        <parent link="femur_assembly_5"/>
        <child link="tibia_assembly_5"/>
        <axis xyz="0 0 1"/>
        <limit effort="10" velocity="10" lower="-1.5708" upper="1.5708"/>
    </joint>
    <!-- Joint from double_bracket_assembly_5 to femur_assembly_5 -->
    <joint name="leg5_femur" type="revolute">
        <origin xyz="0.056 -0.019 0.019" rpy="1.5708 -1.5708 0"/>
        <parent link="double_bracket_assembly_5"/>
        <child link="femur_assembly_5"/>
        <axis xyz="0 0 1"/>
        <limit effort="10" velocity="10" lower="-1.5708" upper="1.5708"/>
    </joint>
    <!-- Joint from base_assembly to double_bracket_assembly_5 -->
    <joint name="leg5_coxa" type="revolute">
        <origin xyz="-0.106519 0.00538834 -0.00556095" rpy="0 -0 3.14159"/>
        <parent link="base_assembly"/>
        <child link="double_bracket_assembly_5"/>
        <axis xyz="0 0 1"/>
        <limit effort="10" velocity="10" lower="-1.0472" upper="1.0472"/>
    </joint>
    <!-- Link double_bracket_assembly_6 -->
    <link name="double_bracket_assembly_6">
        <inertial>
            <origin xyz="0.028 1.20994e-08 0.019" rpy="0 0 0"/>
            <mass value="0.0246869"/>
            <inertia ixx="9.32829e-06" ixy="-5.03238e-12" ixz="-5.03238e-12" iyy="8.77841e-06" iyz="7.40111e-15" izz="8.77841e-06"/>
        </inertial>
        <!-- Part fr12_h101_16 -->
        <visual>
            <origin xyz="0.056 -1.73472e-18 0.019" rpy="0 -0 1.5708"/>
            <geometry>
                <mesh filename="package://assets/fr12_h101.stl"/>
            </geometry>
            <material name="fr12_h101_16_material">
                <color rgba="0.647059 0.647059 0.647059 1.0"/>
            </material>
        </visual>
        <collision>
            <origin xyz="0.056 -1.73472e-18 0.019" rpy="0 -0 1.5708"/>
            <geometry>
                <mesh filename="package://assets/fr12_h101.stl"/>
            </geometry>
        </collision>
        <!-- Part fr12_h101_17 -->
        <visual>
            <origin xyz="0 -8.67362e-18 0.019" rpy="1.5708 1.5708 0"/>
            <geometry>
                <mesh filename="package://assets/fr12_h101.stl"/>
            </geometry>
            <material name="fr12_h101_17_material">
                <color rgba="0.647059 0.647059 0.647059 1.0"/>
            </material>
        </visual>
        <collision>
            <origin xyz="0 -8.67362e-18 0.019" rpy="1.5708 1.5708 0"/>
            <geometry>
                <mesh filename="package://assets/fr12_h101.stl"/>
            </geometry>
        </collision>
    </link>
    <!-- Link femur_assembly_6 -->
    <link name="femur_assembly_6">
        <inertial>
            <origin xyz="-7.54726e-06 -0.0176085 -0.0188586" rpy="0 0 0"/>
            <mass value="0.13198"/>
            <inertia ixx="5.98948e-05" ixy="1.75405e-08" ixz="1.43469e-08" iyy="2.44197e-05" iyz="-1.39313e-06" izz="5.20149e-05"/>
        </inertial>
        <!-- Part dc11_a01_dummy_17 -->
        <visual>
            <origin xyz="0 2.77556e-17 -0.0198" rpy="0 -0 0"/>
            <geometry>
                <mesh filename="package://assets/dc11_a01_dummy.stl"/>
            </geometry>
            <material name="dc11_a01_dummy_17_material">
                <color rgba="0.980392 0.713725 0.00392157 1.0"/>
            </material>
        </visual>
        <collision>
            <origin xyz="0 2.77556e-17 -0.0198" rpy="0 -0 0"/>
            <geometry>
                <mesh filename="package://assets/dc11_a01_dummy.stl"/>
            </geometry>
        </collision>
        <!-- Part fr12_s102_11 -->
        <visual>
            <origin xyz="0 -0.021 -0.0198" rpy="1.5708 1.5708 0"/>
            <geometry>
                <mesh filename="package://assets/fr12_s102.stl"/>
            </geometry>
            <material name="fr12_s102_11_material">
                <color rgba="0.231373 0.380392 0.705882 1.0"/>
            </material>
        </visual>
        <collision>
            <origin xyz="0 -0.021 -0.0198" rpy="1.5708 1.5708 0"/>
            <geometry>
                <mesh filename="package://assets/fr12_s102.stl"/>
            </geometry>
        </collision>
        <!-- Part fr12_h101_18 -->
        <visual>
            <origin xyz="2.77556e-17 -0.0715 -0.0198" rpy="-0 -1.5708 0"/>
            <geometry>
                <mesh filename="package://assets/fr12_h101.stl"/>
            </geometry>
            <material name="fr12_h101_18_material">
                <color rgba="0.647059 0.647059 0.647059 1.0"/>
            </material>
        </visual>
        <collision>
            <origin xyz="2.77556e-17 -0.0715 -0.0198" rpy="-0 -1.5708 0"/>
            <geometry>
                <mesh filename="package://assets/fr12_h101.stl"/>
            </geometry>
        </collision>
    </link>
    <!-- Link tibia_assembly_6 -->
    <link name="tibia_assembly_6">
        <inertial>
            <origin xyz="-0.0167995 -0.0405638 -0.0184092" rpy="0 0 0"/>
            <mass value="0.209114"/>
            <inertia ixx="0.000285113" ixy="-0.000196192" ixz="-2.14462e-06" iyy="0.000286962" iyz="-4.27064e-06" izz="0.000528405"/>
        </inertial>
        <!-- Part part_1_6 -->
        <visual>
            <origin xyz="0.00565724 0.128232 -0.00920154" rpy="0 -1.54074e-33 2.77336e-17"/>
            <geometry>
                <mesh filename="package://assets/part_1.stl"/>
            </geometry>
            <material name="part_1_6_material">
                <color rgba="0.301961 0.301961 0.301961 1.0"/>
            </material>
        </visual>
        <collision>
            <origin xyz="0.00565724 0.128232 -0.00920154" rpy="0 -1.54074e-33 2.77336e-17"/>
            <geometry>
                <mesh filename="package://assets/part_1.stl"/>
            </geometry>
        </collision>
        <!-- Part dc11_a01_dummy_18 -->
        <visual>
            <origin xyz="0 5.55112e-17 -0.019" rpy="0 -0 0"/>
            <geometry>
                <mesh filename="package://assets/dc11_a01_dummy.stl"/>
            </geometry>
            <material name="dc11_a01_dummy_18_material">
                <color rgba="0.980392 0.713725 0.00392157 1.0"/>
            </material>
        </visual>
        <collision>
            <origin xyz="0 5.55112e-17 -0.019" rpy="0 -0 0"/>
            <geometry>
                <mesh filename="package://assets/dc11_a01_dummy.stl"/>
            </geometry>
        </collision>
        <!-- Part fr12_s102_12 -->
        <visual>
            <origin xyz="-2.77556e-17 -0.021 -0.019" rpy="1.5708 1.5708 0"/>
            <geometry>
                <mesh filename="package://assets/fr12_s102.stl"/>
            </geometry>
            <material name="fr12_s102_12_material">
                <color rgba="0.231373 0.380392 0.705882 1.0"/>
            </material>
        </visual>
        <collision>
            <origin xyz="-2.77556e-17 -0.021 -0.019" rpy="1.5708 1.5708 0"/>
            <geometry>
                <mesh filename="package://assets/fr12_s102.stl"/>
            </geometry>
        </collision>
    </link>
    <!-- Joint from femur_assembly_6 to tibia_assembly_6 -->
    <joint name="leg6_tibia" type="revolute">
        <origin xyz="2.77556e-17 -0.0715 -0.0008" rpy="0 -0 0"/>
        <parent link="femur_assembly_6"/>
        <child link="tibia_assembly_6"/>
        <axis xyz="0 0 1"/>
        <limit effort="10" velocity="10" lower="-1.5708" upper="1.5708"/>
    </joint>
    <!-- Joint from double_bracket_assembly_6 to femur_assembly_6 -->
    <joint name="leg6_femur" type="revolute">
        <origin xyz="0.056 -0.019 0.019" rpy="1.5708 -1.5708 0"/>
        <parent link="double_bracket_assembly_6"/>
        <child link="femur_assembly_6"/>
        <axis xyz="0 0 1"/>
        <limit effort="10" velocity="10" lower="-1.5708" upper="1.5708"/>
    </joint>
    <!-- Joint from base_assembly to double_bracket_assembly_6 -->
    <joint name="leg6_coxa" type="revolute">
        <origin xyz="-0.0862607 -0.103568 -0.00556095" rpy="0 -0 -2.35739"/>
        <parent link="base_assembly"/>
        <child link="double_bracket_assembly_6"/>
        <axis xyz="0 0 1"/>
        <limit effort="10" velocity="10" lower="-1.0472" upper="1.0472"/>
    </joint>
    <!-- Joint from base_link to base_assembly -->
    <joint name="base_link_to_base_assembly" type="fixed">
        <origin xyz="0 0 0" rpy="0 -0 0"/>
        <parent link="base_link"/>
        <child link="base_assembly"/>
        <axis xyz="0 0 1"/>
        <limit effort="10" velocity="10"/>
    </joint>
    <!-- Link partb -->
    <link name="partb">
        <inertial>
            <origin xyz="0.00027379 0.00615829 0.033939" rpy="0 0 0"/>
            <mass value="0.19553"/>
            <inertia ixx="0.000704455" ixy="-1.00934e-07" ixz="0" iyy="0.000498137" iyz="0" izz="0.001201"/>
        </inertial>
        <!-- Part partb -->
        <visual>
            <origin xyz="0.000265282 0.00538834 0.030439" rpy="0 -0 1.11022e-16"/>
            <geometry>
                <mesh filename="package://assets/partb.stl"/>
            </geometry>
            <material name="partb_material">
                <color rgba="0.615686 0.811765 0.929412 1.0"/>
            </material>
        </visual>
        <collision>
            <origin xyz="0.000265282 0.00538834 0.030439" rpy="0 -0 1.11022e-16"/>
            <geometry>
                <mesh filename="package://assets/partb.stl"/>
            </geometry>
        </collision>
    </link>
    <!-- Joint from base_link to partb -->
    <joint name="base_link_to_partb" type="fixed">
        <origin xyz="0 0 0" rpy="0 -0 0"/>
        <parent link="base_link"/>
        <child link="partb"/>
        <axis xyz="0 0 1"/>
        <limit effort="10" velocity="10"/>
    </joint>
</robot>
